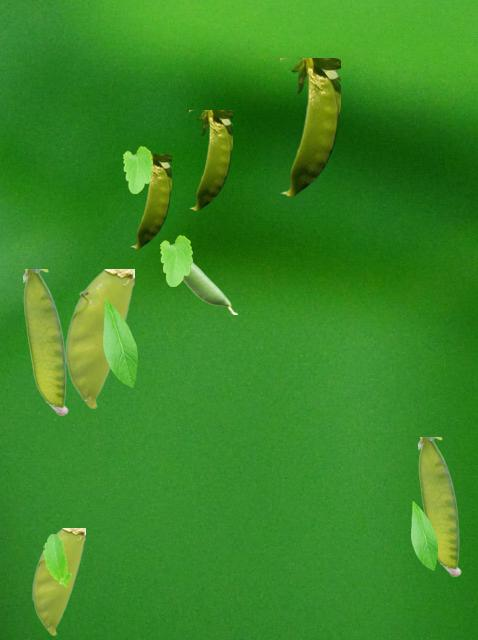pea: (65, 269, 133, 407), (280, 58, 339, 196), (23, 269, 67, 414), (418, 437, 460, 575), (32, 528, 84, 634), (189, 110, 231, 210), (130, 154, 170, 248), (183, 261, 236, 313)
